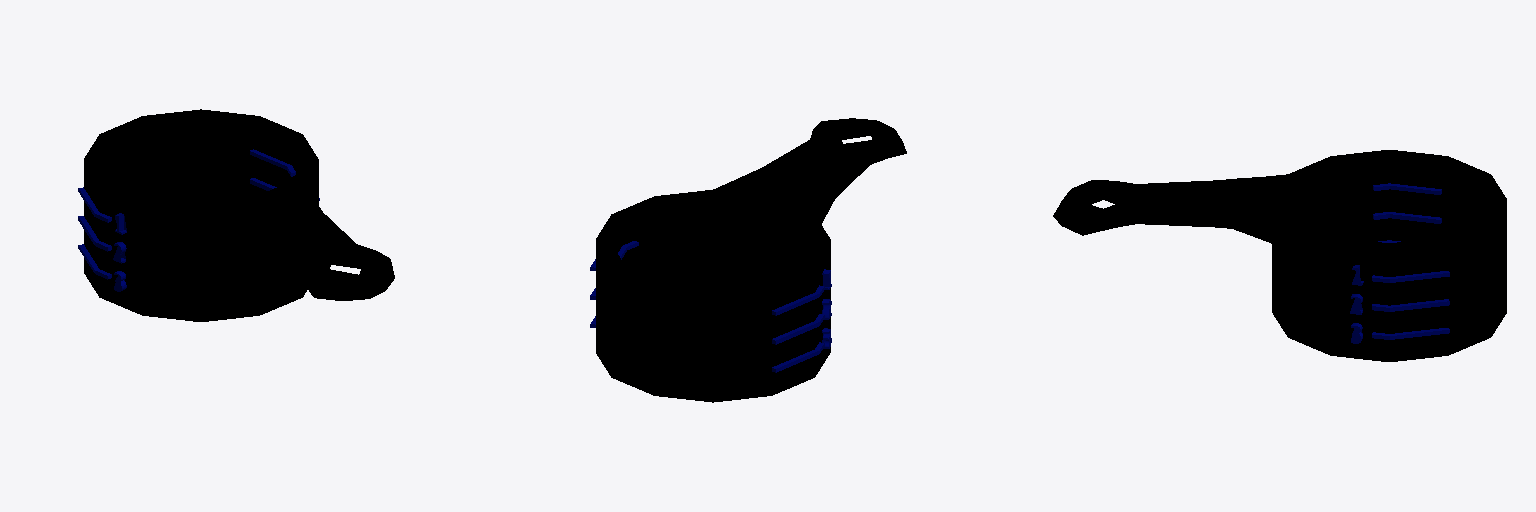
Rendered from measuring_cup.obj.
The picture shows the model from 3 angles: view 1: azimuth 30°, elevation 25°; view 2: azimuth 150°, elevation 25°; view 3: azimuth 270°, elevation 25°; orthographic projection.
Visible parts, largest first — view 1: pCylinder1; view 2: pCylinder1; view 3: pCylinder1.
Boxes of the visible parts, x1=… form: pCylinder1: x1=78, y1=109, x2=394, y2=321; pCylinder1: x1=590, y1=118, x2=906, y2=402; pCylinder1: x1=1053, y1=150, x2=1506, y2=361.
Size of the model in its own units: 8.14 by 4.16 by 15.05.